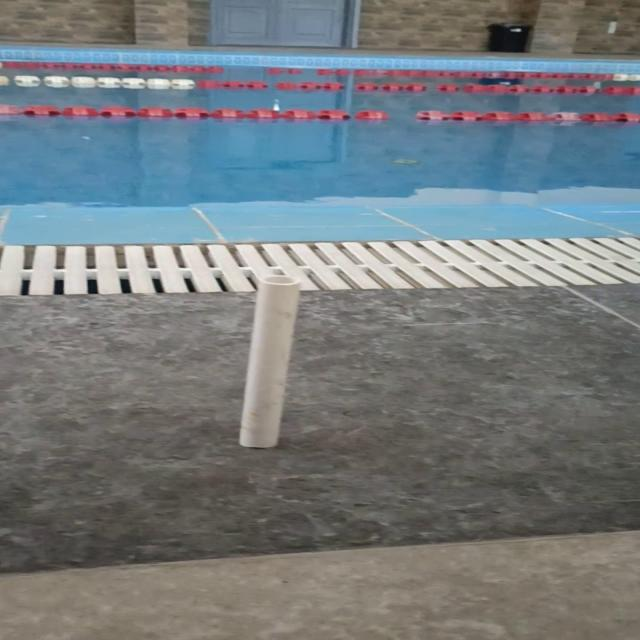Cube: (236, 274, 302, 448)
